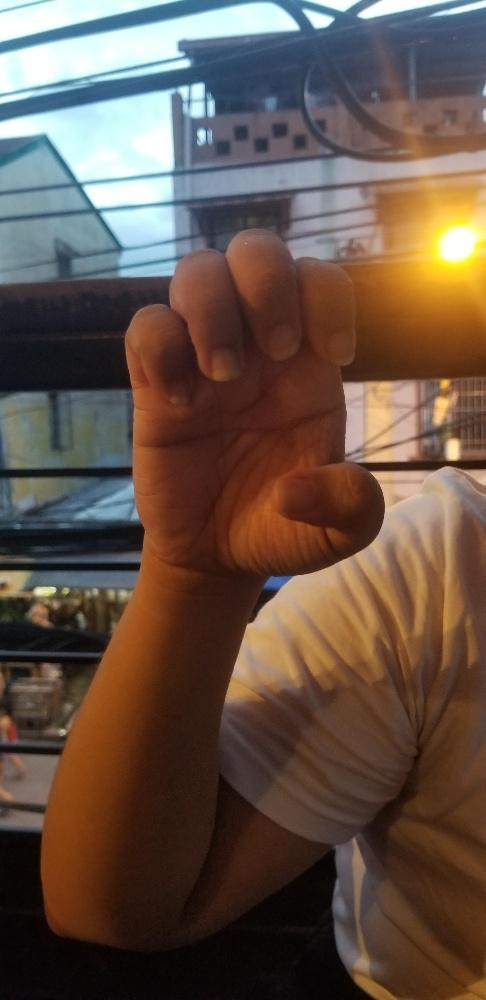e: (120, 225, 389, 578)
